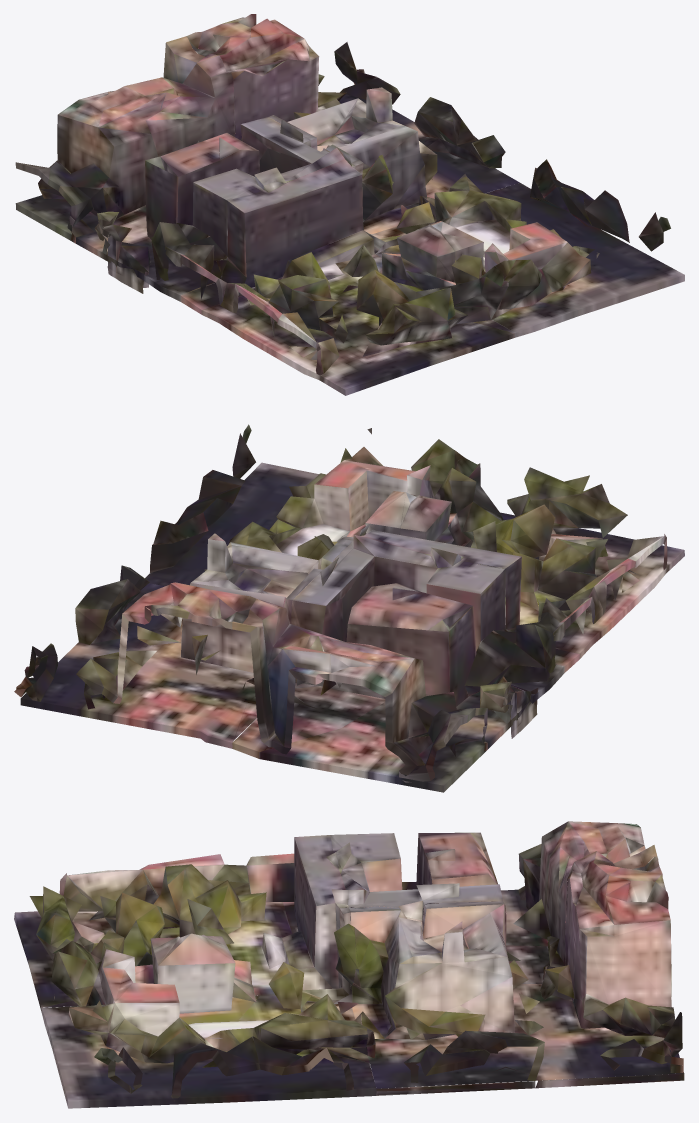
The picture shows the model from 3 angles, top to bottom: view 1: azimuth 30°, elevation 25°; view 2: azimuth 150°, elevation 25°; view 3: azimuth 270°, elevation 25°; orthographic projection. The views are drawn at different scales.
Parts seen in each view (by area): view 1: Mesh_0; view 2: Mesh_0; view 3: Mesh_0.
Part boxes in pixels (left/top/right/bottom): Mesh_0: left=15, top=14, right=684, bottom=395; Mesh_0: left=14, top=424, right=684, bottom=792; Mesh_0: left=14, top=821, right=684, bottom=1108.
Size of the model in its own units: 134 by 43.4 by 165.
1 material, 1 textured.
